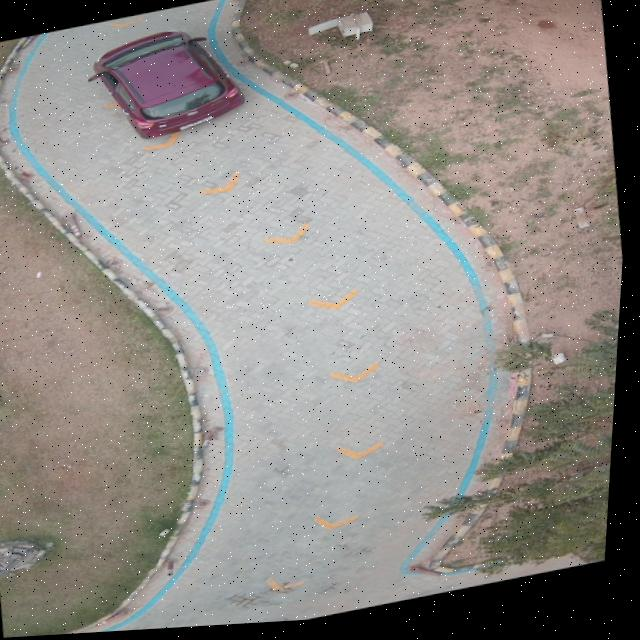car: (91, 32, 244, 144)
